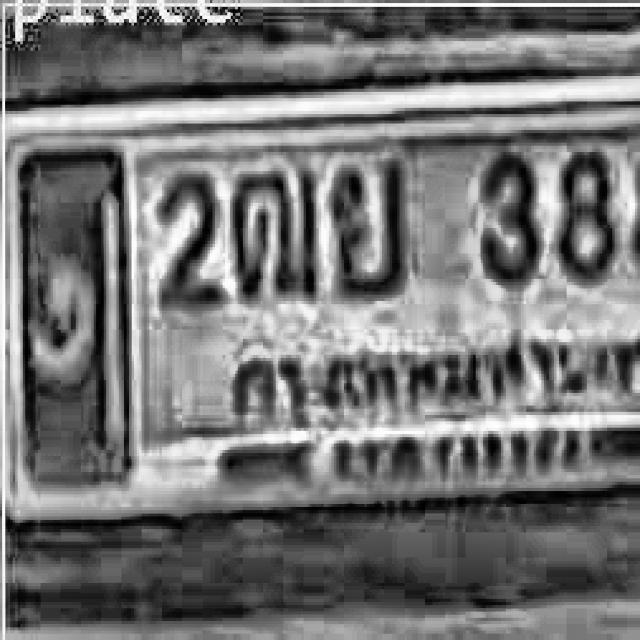license-plate: (0, 68, 640, 515)
